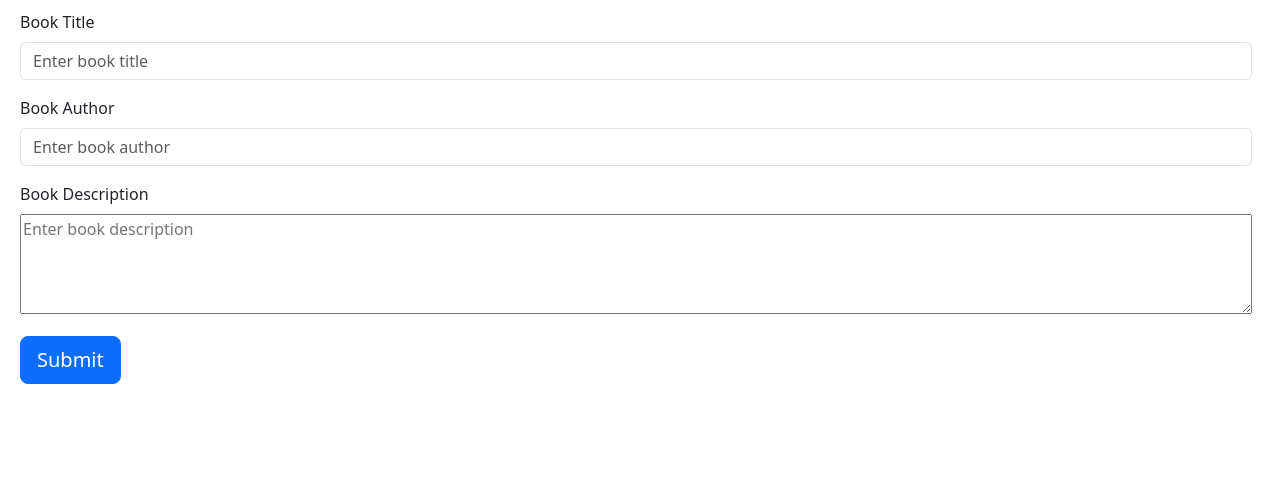
Test: Add Book Component › should show the errors
// submit button
Click the button with test id "submit-btn" at (70, 360), box [20,336,121,384]
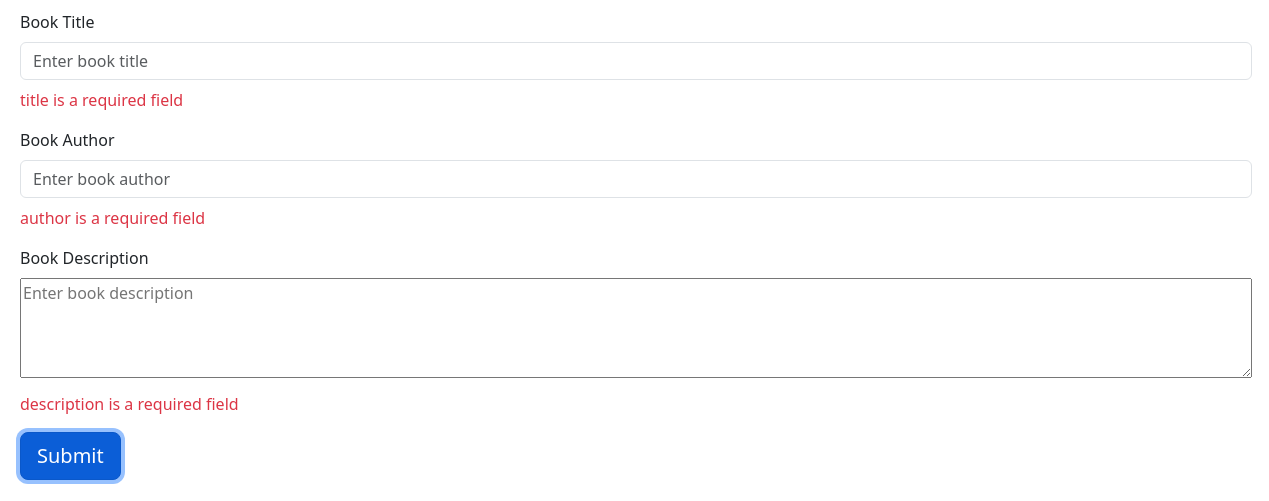
Check: the text "description is a required field" is shown, box [20,393,239,415]
Check: the text "author is a required field" is shown, box [20,207,205,229]
Check: the text "title is a required field" is shown, box [20,89,183,111]
